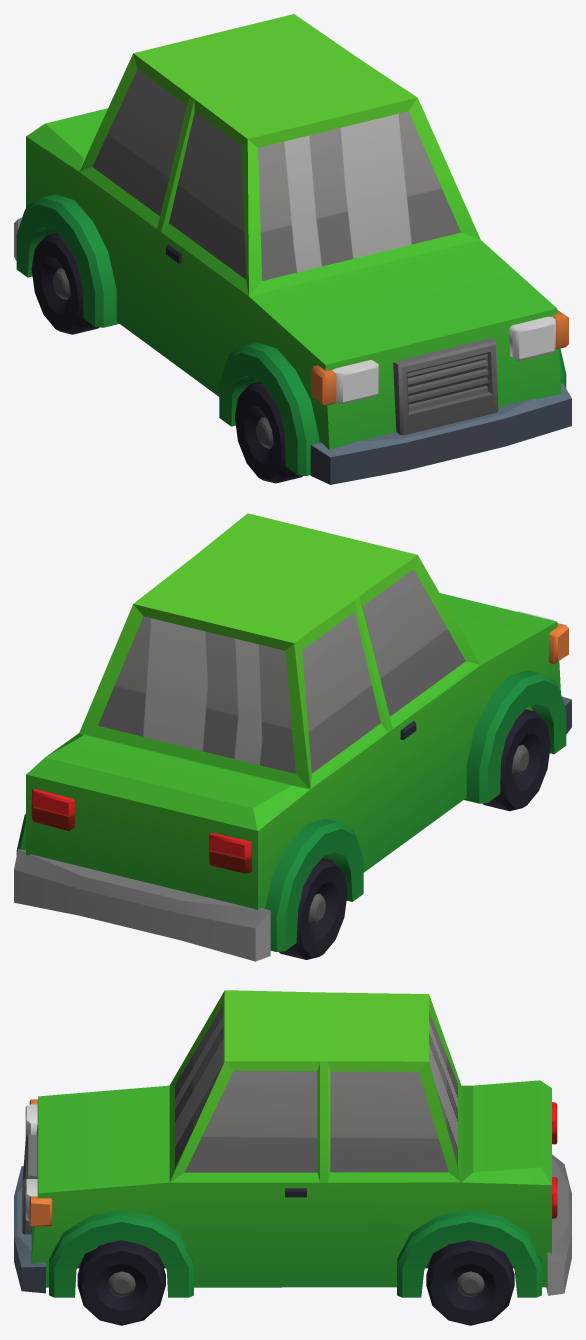
Rendered from Car_2_5.fbx.
3 views of the same model, one above another, from view 1: azimuth 30°, elevation 25°; view 2: azimuth 150°, elevation 25°; view 3: azimuth 270°, elevation 25° (orthographic). The views are drawn at different scales.
Visible parts, largest first — view 1: Car_2_5, W_BR, W_FR; view 2: Car_2_5, W_FR, W_BR; view 3: Car_2_5, W_BL, W_FL.
Part boxes in pixels (box(x1,y1,x2,y2)): Car_2_5: box(14, 14, 571, 484); W_BR: box(31, 232, 99, 334); W_FR: box(235, 381, 302, 483); Car_2_5: box(14, 513, 571, 961); W_FR: box(482, 709, 550, 811); W_BR: box(279, 858, 347, 959); Car_2_5: box(14, 990, 571, 1297); W_BL: box(426, 1240, 514, 1325); W_FL: box(77, 1240, 165, 1325).
Bounding box in the file's own units: 109 × 111 × 228.
